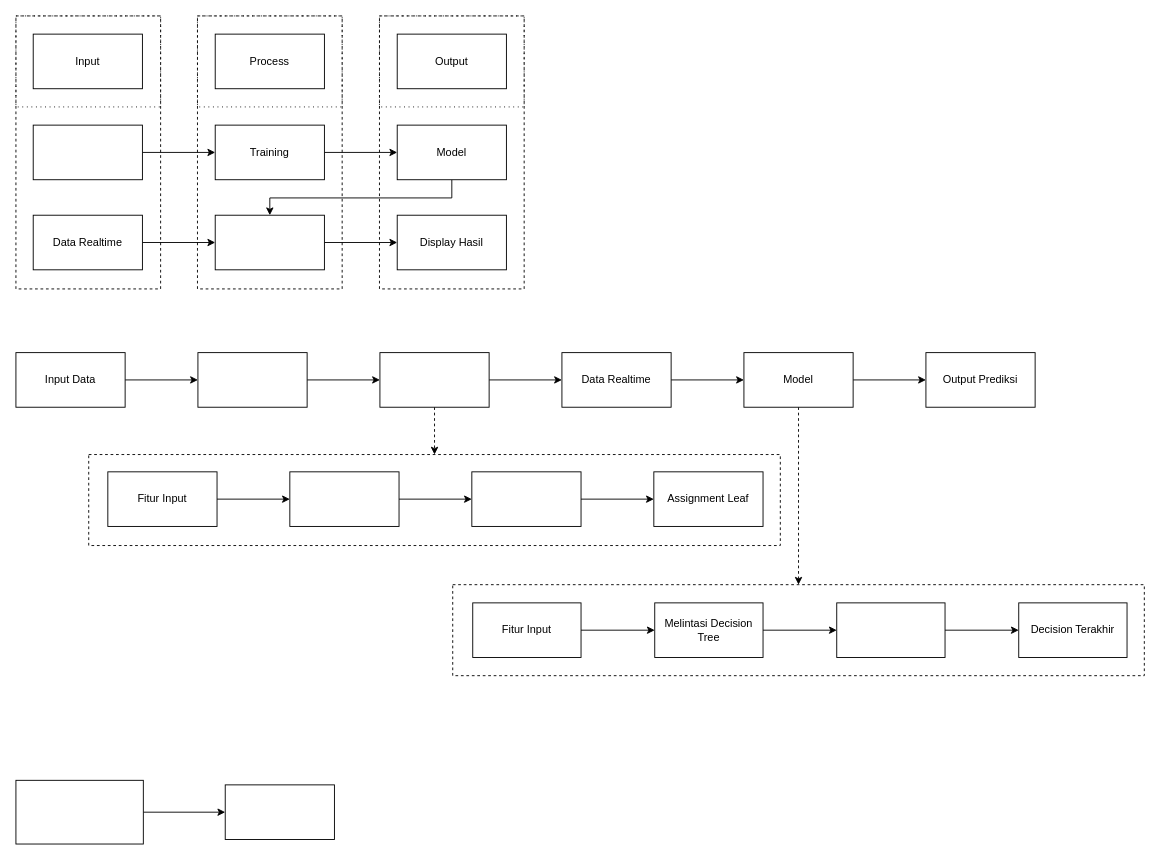
The diagram is 1160 pixels wide and 860 high, and some of its shapes have lost their labels. Here are the shapes that lost their labels. From the top down, the centre of each, then its label:
At [87,152]: "Dataset Awal".
At [269,242]: "Inferensi".
At [252,379]: "Data Preprocessing".
At [434,379]: "Training Model".
At [344,498]: "Evaluasi Terpisah".
At [526,498]: "Evaluasi Terpisah Terbaik".
At [890,629]: "Sampai pada Leaf Node".
At [79,811]: "Mencari poin pada dataset yang terpencil".
